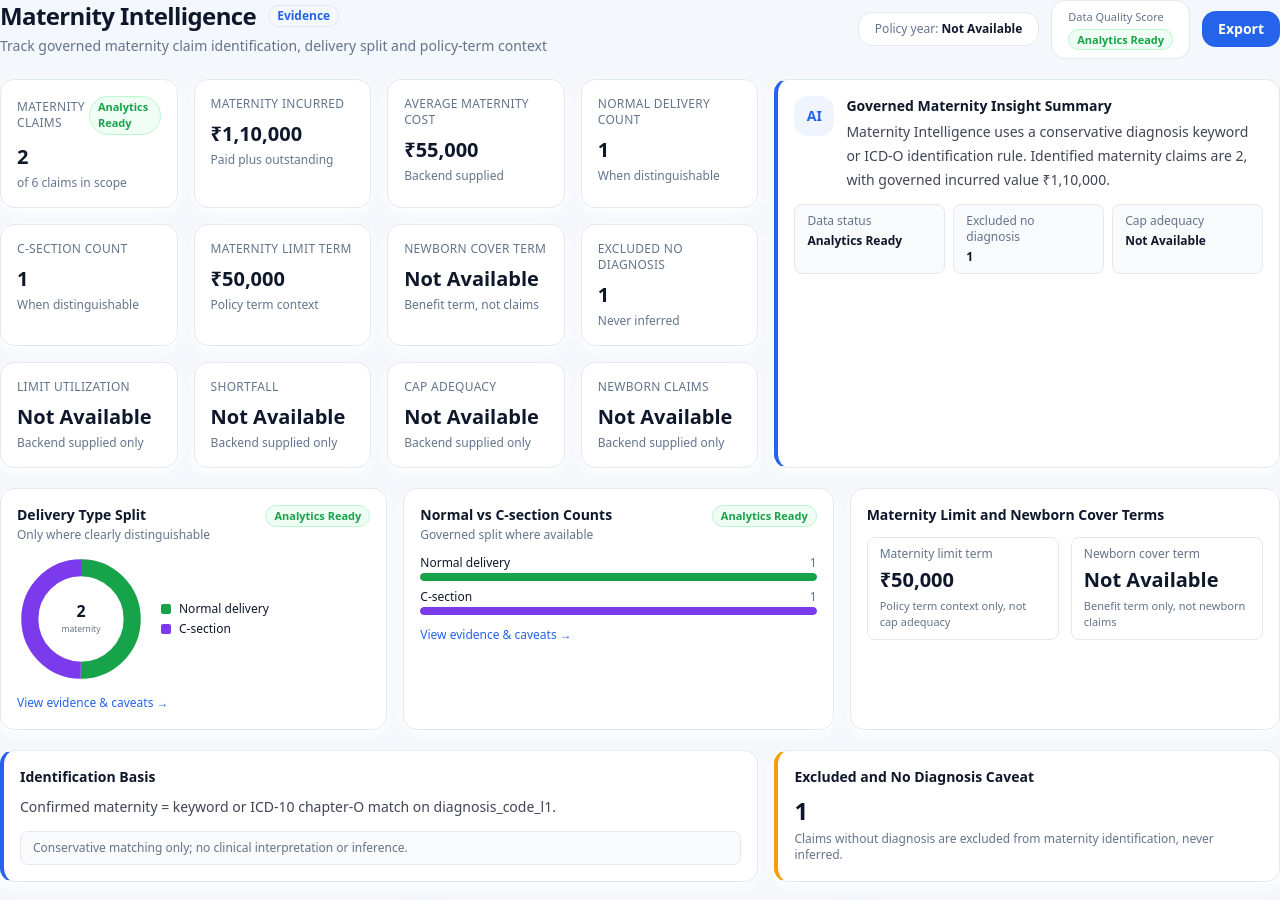
Test: Maternity dashboard › evidence drawer opens
Expected: the element with test id "mat-split" is shown, [17,504,370,712]
Click the button "View evidence & caveats →" below "Only where clearly distinguishable" at x=93, y=702, box [17,694,168,710]
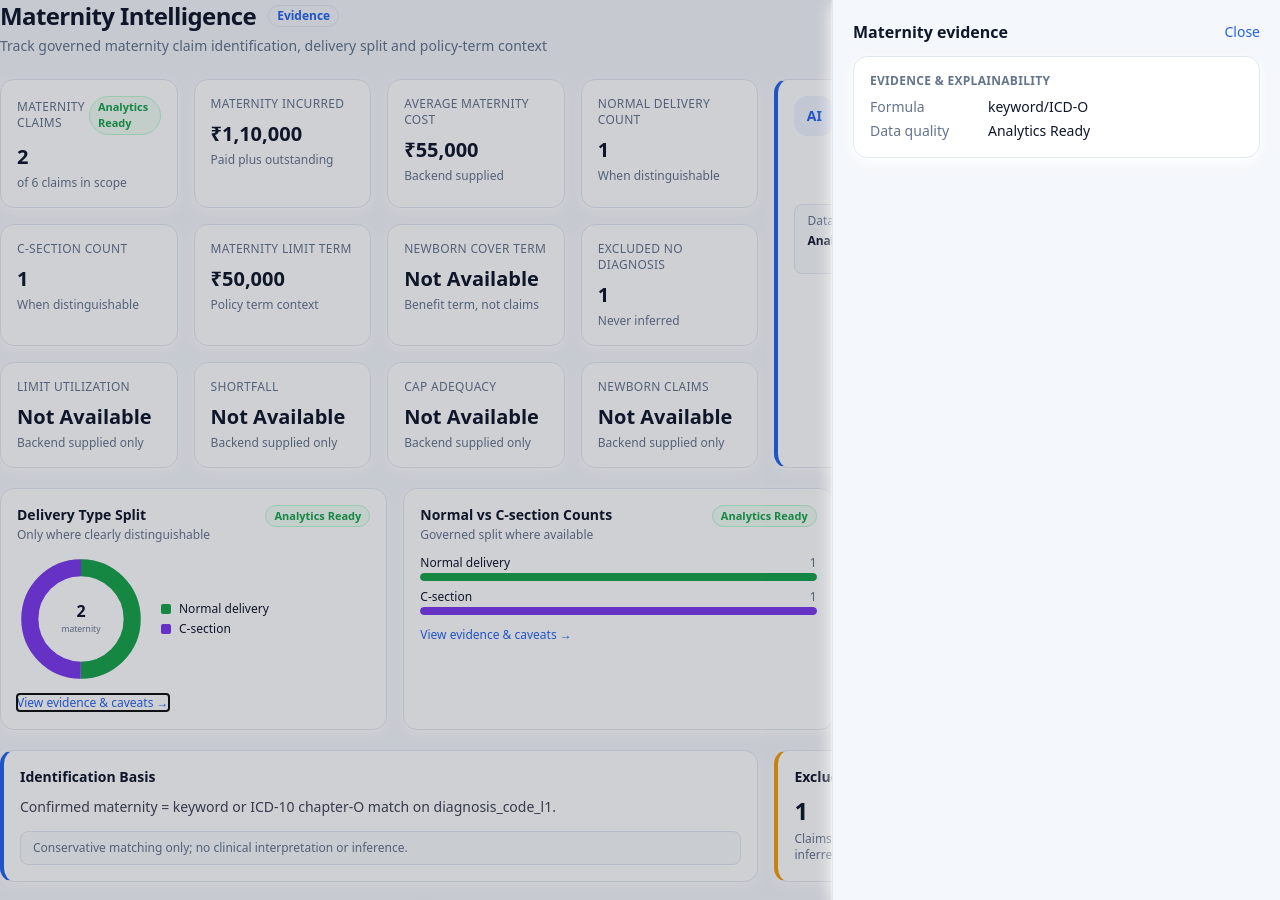
Result: the element with test id "evidence-drawer" is shown
